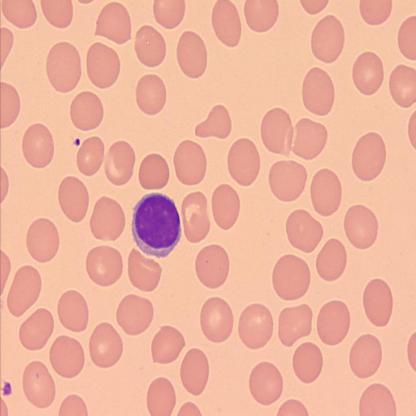Lymphocyte: (130, 191, 182, 259)
